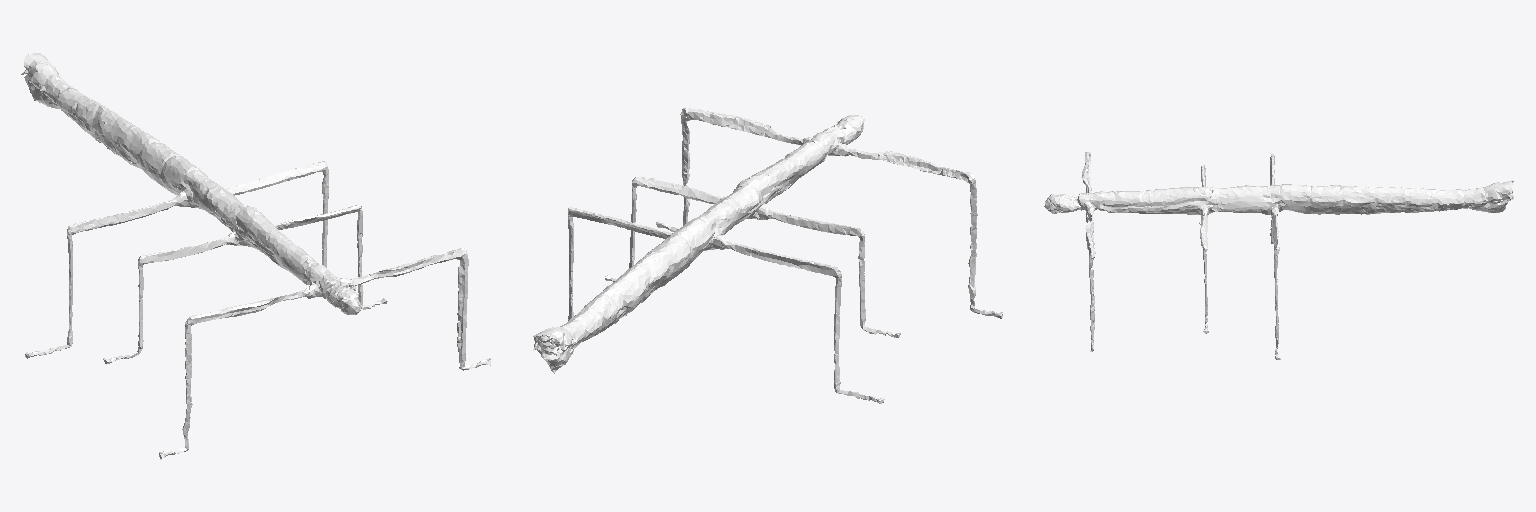
--- What the picture shows (computed from the rendered views, not written in the file) ---
The picture shows the robot from 3 angles, left to right: view 1: azimuth 30°, elevation 25°; view 2: azimuth 150°, elevation 25°; view 3: azimuth 270°, elevation 25°; orthographic projection.
Robot: Carausius_Morosus — 38 links, 37 joints (37 revolute); root link 01_Carput; default pose: all joints at 0.
Links seen in each view (by area): view 1: 03_Mesothorax, 06_Abdomen_2, 04_Metathorax, 05_Abdomen_3, 08_Abdomen_0, 07_Abdomen_1, 30_FL_Femur_L, 15_HL_Femur_R, 31_FL_Tibia_L, 35_FL_Femur_R, 10_HL_Femur_L, 25_ML_Femur_R (+4 smaller); view 2: 03_Mesothorax, 06_Abdomen_2, 05_Abdomen_3, 04_Metathorax, 08_Abdomen_0, 07_Abdomen_1, 30_FL_Femur_L, 35_FL_Femur_R, 15_HL_Femur_R, 20_ML_Femur_L, 25_ML_Femur_R, 10_HL_Femur_L (+4 smaller); view 3: 03_Mesothorax, 04_Metathorax, 06_Abdomen_2, 05_Abdomen_3, 07_Abdomen_1, 08_Abdomen_0, 01_Carput.
Link boxes in pixels (box(x1,y1,x2,y2)): 03_Mesothorax: box(228, 205, 319, 284); 06_Abdomen_2: box(97, 111, 159, 170); 04_Metathorax: box(182, 170, 243, 231); 05_Abdomen_3: box(140, 142, 200, 194); 08_Abdomen_0: box(21, 52, 72, 108); 07_Abdomen_1: box(56, 87, 110, 142); 30_FL_Femur_L: box(346, 248, 466, 286); 15_HL_Femur_R: box(67, 199, 174, 234); 31_FL_Tibia_L: box(457, 251, 468, 369); 35_FL_Femur_R: box(186, 290, 306, 325); 10_HL_Femur_L: box(226, 161, 326, 195); 25_ML_Femur_R: box(138, 238, 224, 264); 03_Mesothorax: box(734, 137, 829, 219); 06_Abdomen_2: box(605, 251, 670, 317); 05_Abdomen_3: box(648, 218, 712, 286); 04_Metathorax: box(697, 186, 759, 250); 08_Abdomen_0: box(533, 320, 585, 373); 07_Abdomen_1: box(568, 286, 623, 341); 30_FL_Femur_L: box(682, 108, 805, 144); 35_FL_Femur_R: box(848, 148, 974, 182); 15_HL_Femur_R: box(728, 241, 840, 277); 20_ML_Femur_L: box(632, 177, 722, 203); 25_ML_Femur_R: box(772, 212, 863, 236); 10_HL_Femur_L: box(568, 207, 671, 238); 03_Mesothorax: box(1104, 186, 1211, 215); 04_Metathorax: box(1212, 185, 1280, 214); 06_Abdomen_2: box(1341, 186, 1406, 214); 05_Abdomen_3: box(1280, 184, 1340, 214); 07_Abdomen_1: box(1407, 188, 1463, 212); 08_Abdomen_0: box(1464, 180, 1514, 212); 01_Carput: box(1044, 194, 1079, 213).
Size in the robot's own frame: 4.08 by 6.56 by 1.86 metres.
Meshes: 38 distinct files referenced, 38 mesh visuals loaded (38 OBJ).

The robot description file, URDF, robot "Carausius_Morosus":
<?xml version="1.0"?>
<!-- created with Phobos 1.0.1 "Capricious Choutengan" -->
  <robot name="Carausius_Morosus">

    <link name="01_Carput">
      <inertial>
        <origin xyz="0.00299 -0.20745 -0.00121" rpy="0 0 0"/>
        <mass value="17.34"/>
        <inertia ixx="0.29364" ixy="0.00491" ixz="-0.0002" iyy="0.11728" iyz="0.00443" izz="0.3038"/>
      </inertial>
      <visual name="01_Carput_Visual">
        <origin xyz="0.00299 -0.20745 -0.00121" rpy="0 0 0"/>
        <geometry>
          <mesh filename="../meshes/obj/Textured_mesh_1.obj" scale="1.0 1.0 1.0"/>
        </geometry>
        <material name="Textured_mesh_1"/>
      </visual>
      <collision name="01_Carput_Collision">
        <origin xyz="0.00144 -0.22508 -0.00708" rpy="0 0 0"/>
        <geometry>
          <mesh filename="../meshes/obj/Textured_mesh_1.075.obj" scale="1.0 1.0 1.0"/>
        </geometry>
      </collision>
    </link>

    <link name="02_Prothorax">
      <inertial>
        <origin xyz="-0.02188 0.16385 -0.00566" rpy="0 0 0"/>
        <mass value="16.52"/>
        <inertia ixx="1.58377" ixy="0.04347" ixz="0.00396" iyy="0.81574" iyz="0.07572" izz="1.50066"/>
      </inertial>
      <visual name="02_Prothorax_Visual">
        <origin xyz="-0.02188 0.16385 -0.00566" rpy="1.5708 -1.55593 -1.55593"/>
        <geometry>
          <mesh filename="../meshes/obj/Textured_mesh_1.002.obj" scale="1.0 1.0 1.0"/>
        </geometry>
        <material name="Textured_mesh_1"/>
      </visual>
      <collision name="02_Prothorax_Collision">
        <origin xyz="-0.03485 0.16313 -0.00501" rpy="1.5708 -1.55593 -1.55593"/>
        <geometry>
          <mesh filename="../meshes/obj/Textured_mesh_1.038.obj" scale="1.0 1.0 1.0"/>
        </geometry>
      </collision>
    </link>

    <link name="03_Mesothorax">
      <inertial>
        <origin xyz="-0.0093 0.89929 0.0142" rpy="0 0 0"/>
        <mass value="106.97"/>
        <inertia ixx="20.60371" ixy="0.78315" ixz="-0.05197" iyy="1.47493" iyz="0.10068" izz="20.30968"/>
      </inertial>
      <visual name="03_Mesothorax_Visual">
        <origin xyz="-0.0093 0.89929 0.0142" rpy="1.5708 -1.55593 -1.55593"/>
        <geometry>
          <mesh filename="../meshes/obj/Textured_mesh_1.015.obj" scale="1.0 1.0 1.0"/>
        </geometry>
        <material name="Textured_mesh_1"/>
      </visual>
      <collision name="03_Mesothorax_Collision">
        <origin xyz="-0.01824 0.87338 0.01072" rpy="1.5708 -1.55593 -1.55593"/>
        <geometry>
          <mesh filename="../meshes/obj/Textured_mesh_1.064.obj" scale="1.0 1.0 1.0"/>
        </geometry>
      </collision>
    </link>

    <link name="04_Metathorax">
      <inertial>
        <origin xyz="0.00793 0.52285 -0.01246" rpy="0 0 0"/>
        <mass value="81.29"/>
        <inertia ixx="6.45446" ixy="0.10327" ixz="0.13269" iyy="1.283" iyz="-0.12884" izz="6.417"/>
      </inertial>
      <visual name="04_Metathorax_Visual">
        <origin xyz="0.00793 0.52285 -0.01246" rpy="1.5708 -1.55593 -1.55593"/>
        <geometry>
          <mesh filename="../meshes/obj/Textured_mesh_1.025.obj" scale="1.0 1.0 1.0"/>
        </geometry>
        <material name="Textured_mesh_1"/>
      </visual>
      <collision name="04_Metathorax_Collision">
        <origin xyz="0.00539 0.50517 -0.00101" rpy="1.5708 -1.55593 -1.55593"/>
        <geometry>
          <mesh filename="../meshes/obj/Textured_mesh_1.063.obj" scale="1.0 1.0 1.0"/>
        </geometry>
      </collision>
    </link>

    <link name="05_Abdomen_3">
      <inertial>
        <origin xyz="0.02684 0.42317 0.00598" rpy="0 0 0"/>
        <mass value="80.68"/>
        <inertia ixx="4.67129" ixy="0.1158" ixz="0.01225" iyy="1.42033" iyz="-0.19931" izz="4.35911"/>
      </inertial>
      <visual name="05_Abdomen_3_Visual">
        <origin xyz="0.02684 0.42317 0.00598" rpy="1.5708 -1.55593 -1.55593"/>
        <geometry>
          <mesh filename="../meshes/obj/Textured_mesh_1.024.obj" scale="1.0 1.0 1.0"/>
        </geometry>
        <material name="Textured_mesh_1"/>
      </visual>
      <collision name="05_Abdomen_3_Collision">
        <origin xyz="0.0458 0.42051 0.01016" rpy="1.5708 -1.55593 -1.55593"/>
        <geometry>
          <mesh filename="../meshes/obj/Textured_mesh_1.062.obj" scale="1.0 1.0 1.0"/>
        </geometry>
      </collision>
    </link>

    <link name="06_Abdomen_2">
      <inertial>
        <origin xyz="0.0132 0.462 0.00721" rpy="0 0 0"/>
        <mass value="79.52"/>
        <inertia ixx="5.64524" ixy="0.19915" ixz="0.18241" iyy="1.29091" iyz="-0.17084" izz="5.30662"/>
      </inertial>
      <visual name="06_Abdomen_2_Visual">
        <origin xyz="0.0132 0.462 0.00721" rpy="1.5708 -1.55593 -1.55593"/>
        <geometry>
          <mesh filename="../meshes/obj/Textured_mesh_1.035.obj" scale="1.0 1.0 1.0"/>
        </geometry>
        <material name="Textured_mesh_1"/>
      </visual>
      <collision name="06_Abdomen_2_Collision">
        <origin xyz="0.00333 0.46033 0.01352" rpy="1.5708 -1.55593 -1.55593"/>
        <geometry>
          <mesh filename="../meshes/obj/Textured_mesh_1.061.obj" scale="1.0 1.0 1.0"/>
        </geometry>
      </collision>
    </link>

    <link name="07_Abdomen_1">
      <inertial>
        <origin xyz="-0.00193 0.38309 -0.01013" rpy="0 0 0"/>
        <mass value="54.07"/>
        <inertia ixx="2.73094" ixy="0.10817" ixz="0.0819" iyy="0.67247" iyz="-0.00785" izz="2.6494"/>
      </inertial>
      <visual name="07_Abdomen_1_Visual">
        <origin xyz="-0.00193 0.38309 -0.01013" rpy="1.5708 -1.55593 -1.55593"/>
        <geometry>
          <mesh filename="../meshes/obj/Textured_mesh_1.036.obj" scale="1.0 1.0 1.0"/>
        </geometry>
        <material name="Textured_mesh_1"/>
      </visual>
      <collision name="07_Abdomen_1_Collision">
        <origin xyz="-0.00809 0.39863 -0.00674" rpy="1.5708 -1.55593 -1.55593"/>
        <geometry>
          <mesh filename="../meshes/obj/Textured_mesh_1.060.obj" scale="1.0 1.0 1.0"/>
        </geometry>
      </collision>
    </link>

    <link name="08_Abdomen_0">
      <inertial>
        <origin xyz="-0.04794 0.40528 -0.01267" rpy="0 0 0"/>
        <mass value="46.23"/>
        <inertia ixx="2.05257" ixy="0.07623" ixz="0.06869" iyy="0.6677" iyz="0.25277" izz="1.78699"/>
      </inertial>
      <visual name="08_Abdomen_0_Visual">
        <origin xyz="-0.04794 0.40528 -0.01267" rpy="1.5708 -1.55593 -1.55593"/>
        <geometry>
          <mesh filename="../meshes/obj/Textured_mesh_1.037.obj" scale="1.0 1.0 1.0"/>
        </geometry>
        <material name="Textured_mesh_1"/>
      </visual>
      <collision name="08_Abdomen_0_Collision">
        <origin xyz="-0.02635 0.35668 -0.00925" rpy="1.5708 -1.55593 -1.55593"/>
        <geometry>
          <mesh filename="../meshes/obj/Textured_mesh_1.059.obj" scale="1.0 1.0 1.0"/>
        </geometry>
      </collision>
    </link>

    <link name="09_HL_CT_L">
      <inertial>
        <origin xyz="0.05059 0.00572 0.0055" rpy="0 0 0"/>
        <mass value="1.05"/>
        <inertia ixx="0.00199" ixy="5e-05" ixz="-9e-05" iyy="0.00209" iyz="-0.00015" izz="0.00156"/>
      </inertial>
      <visual name="09_HL_CT_L_Visual">
        <origin xyz="0.05059 0.00572 0.0055" rpy="0 0 0"/>
        <geometry>
          <mesh filename="../meshes/obj/Textured_mesh_1.013.obj" scale="1.0 1.0 1.0"/>
        </geometry>
        <material name="Textured_mesh_1"/>
      </visual>
      <collision name="09_HL_CT_L_Collision">
        <origin xyz="0.05571 0.00357 0.00927" rpy="0 0 0"/>
        <geometry>
          <mesh filename="../meshes/obj/Textured_mesh_1.053.obj" scale="1.0 1.0 1.0"/>
        </geometry>
      </collision>
    </link>

    <link name="10_HL_Femur_L">
      <inertial>
        <origin xyz="0.67236 0.01674 -0.00219" rpy="0 0 0"/>
        <mass value="4.5"/>
        <inertia ixx="0.00507" ixy="-0.01599" ixz="0.01795" iyy="0.61904" iyz="-0.00051" izz="0.6183"/>
      </inertial>
      <visual name="10_HL_Femur_L_Visual">
        <origin xyz="0.67236 0.01674 -0.00219" rpy="-1.5708 -0.01487 0.01487"/>
        <geometry>
          <mesh filename="../meshes/obj/Textured_mesh_1.027.obj" scale="1.0 1.0 1.0"/>
        </geometry>
        <material name="Textured_mesh_1"/>
      </visual>
      <collision name="10_HL_Femur_L_Collision">
        <origin xyz="0.62608 0.0165 -0.00451" rpy="-1.5708 -0.01487 0.01487"/>
        <geometry>
          <mesh filename="../meshes/obj/Textured_mesh_1.049.obj" scale="1.0 1.0 1.0"/>
        </geometry>
      </collision>
    </link>

    <link name="11_HL_Tibia_L">
      <inertial>
        <origin xyz="0.01228 -0.67668 0.00057" rpy="0 0 0"/>
        <mass value="2.28"/>
        <inertia ixx="0.46179" ixy="0.0008" ixz="-0.00026" iyy="0.46199" iyz="0.00424" izz="0.00093"/>
      </inertial>
      <visual name="11_HL_Tibia_L_Visual">
        <origin xyz="0.01228 -0.67669 0.00057" rpy="-1.5708 -0.01487 0.01487"/>
        <geometry>
          <mesh filename="../meshes/obj/Textured_mesh_1.029.obj" scale="1.0 1.0 1.0"/>
        </geometry>
        <material name="Textured_mesh_1"/>
      </visual>
      <collision name="11_HL_Tibia_L_Collision">
        <origin xyz="0.01463 -0.72451 -0.00246" rpy="-1.5708 -0.01487 0.01487"/>
        <geometry>
          <mesh filename="../meshes/obj/Textured_mesh_1.050.obj" scale="1.0 1.0 1.0"/>
        </geometry>
      </collision>
    </link>

    <link name="12_HL_Tarsus_L">
      <inertial>
        <origin xyz="0.08915 -0.00613 0.00065" rpy="0 0 0"/>
        <mass value="0.23"/>
        <inertia ixx="7e-05" ixy="-3e-05" ixz="0" iyy="0.00052" iyz="-1e-05" izz="0.0005"/>
      </inertial>
      <visual name="12_HL_Tarsus_L_Visual">
        <origin xyz="0.08915 -0.00613 0.00065" rpy="-1.5708 -0.01487 0.01487"/>
        <geometry>
          <mesh filename="../meshes/obj/Textured_mesh_1.028.obj" scale="1.0 1.0 1.0"/>
        </geometry>
        <material name="Textured_mesh_1"/>
      </visual>
      <collision name="12_HL_Tarsus_L_Collision">
        <origin xyz="0.08204 -0.00932 0.00517" rpy="-1.5708 -0.01487 0.01487"/>
        <geometry>
          <mesh filename="../meshes/obj/Textured_mesh_1.051.obj" scale="1.0 1.0 1.0"/>
        </geometry>
      </collision>
    </link>

    <link name="13_HL_Pretarsus_L">
      <inertial>
        <origin xyz="0.08252 0.00663 -0.00613" rpy="0 0 0"/>
        <mass value="0.3"/>
        <inertia ixx="0.00013" ixy="1e-05" ixz="2e-05" iyy="0.00097" iyz="2e-05" izz="0.00099"/>
      </inertial>
      <visual name="13_HL_Pretarsus_L_Visual">
        <origin xyz="0.08252 0.00663 -0.00613" rpy="-1.5708 -0.01487 0.01487"/>
        <geometry>
          <mesh filename="../meshes/obj/Textured_mesh_1.030.obj" scale="1.0 1.0 1.0"/>
        </geometry>
        <material name="Textured_mesh_1"/>
      </visual>
      <collision name="13_HL_Pretarsus_L_Collision">
        <origin xyz="0.09089 0.01534 -0.01421" rpy="-1.5708 -0.01487 0.01487"/>
        <geometry>
          <mesh filename="../meshes/obj/Textured_mesh_1.052.obj" scale="1.0 1.0 1.0"/>
        </geometry>
      </collision>
    </link>

    <link name="14_HL_CT_R">
      <inertial>
        <origin xyz="-0.0598 -0.00109 -0.00204" rpy="0 0 0"/>
        <mass value="1.38"/>
        <inertia ixx="0.00288" ixy="-0.00026" ixz="6e-05" iyy="0.00362" iyz="3e-05" izz="0.00255"/>
      </inertial>
      <visual name="14_HL_CT_R_Visual">
        <origin xyz="-0.0598 -0.00109 -0.00204" rpy="0 0 0"/>
        <geometry>
          <mesh filename="../meshes/obj/Textured_mesh_1.026.obj" scale="1.0 1.0 1.0"/>
        </geometry>
        <material name="Textured_mesh_1"/>
      </visual>
      <collision name="14_HL_CT_R_Collision">
        <origin xyz="-0.06929 -0.01053 0.00277" rpy="0 0 0"/>
        <geometry>
          <mesh filename="../meshes/obj/Textured_mesh_1.058.obj" scale="1.0 1.0 1.0"/>
        </geometry>
      </collision>
    </link>

    <link name="15_HL_Femur_R">
      <inertial>
        <origin xyz="-0.67541 -0.02913 0.00261" rpy="0 0 0"/>
        <mass value="4.58"/>
        <inertia ixx="0.00534" ixy="-0.02581" ixz="0.00749" iyy="0.65793" iyz="0.00014" izz="0.6566"/>
      </inertial>
      <visual name="15_HL_Femur_R_Visual">
        <origin xyz="-0.67541 -0.02913 0.00261" rpy="-1.5708 -0.01487 0.01487"/>
        <geometry>
          <mesh filename="../meshes/obj/Textured_mesh_1.031.obj" scale="1.0 1.0 1.0"/>
        </geometry>
        <material name="Textured_mesh_1"/>
      </visual>
      <collision name="15_HL_Femur_R_Collision">
        <origin xyz="-0.63769 -0.02852 0.00328" rpy="-1.5708 -0.01487 0.01487"/>
        <geometry>
          <mesh filename="../meshes/obj/Textured_mesh_1.054.obj" scale="1.0 1.0 1.0"/>
        </geometry>
      </collision>
    </link>

    <link name="16_HL_Tibia_R">
      <inertial>
        <origin xyz="0.01601 -0.59383 -0.00361" rpy="0 0 0"/>
        <mass value="1.99"/>
        <inertia ixx="0.30642" ixy="-0.00353" ixz="-5e-05" iyy="0.3058" iyz="0.00366" izz="0.00083"/>
      </inertial>
      <visual name="16_HL_Tibia_R_Visual">
        <origin xyz="0.01601 -0.59383 -0.00361" rpy="-1.5708 -0.01487 0.01487"/>
        <geometry>
          <mesh filename="../meshes/obj/Textured_mesh_1.033.obj" scale="1.0 1.0 1.0"/>
        </geometry>
        <material name="Textured_mesh_1"/>
      </visual>
      <collision name="16_HL_Tibia_R_Collision">
        <origin xyz="0.01133 -0.63228 -0.00535" rpy="-1.5708 -0.01487 0.01487"/>
        <geometry>
          <mesh filename="../meshes/obj/Textured_mesh_1.055.obj" scale="1.0 1.0 1.0"/>
        </geometry>
      </collision>
    </link>

    <link name="17_HL_Tarsus_R">
      <inertial>
        <origin xyz="-0.13775 -0.00868 0.00454" rpy="0 0 0"/>
        <mass value="0.33"/>
        <inertia ixx="0.0001" ixy="-0.00011" ixz="0.00013" iyy="0.00189" iyz="1e-05" izz="0.00189"/>
      </inertial>
      <visual name="17_HL_Tarsus_R_Visual">
        <origin xyz="-0.13775 -0.00868 0.00454" rpy="-1.5708 -0.01487 0.01487"/>
        <geometry>
          <mesh filename="../meshes/obj/Textured_mesh_1.032.obj" scale="1.0 1.0 1.0"/>
        </geometry>
        <material name="Textured_mesh_1"/>
      </visual>
      <collision name="17_HL_Tarsus_R_Collision">
        <origin xyz="-0.1195 -0.0037 0.00457" rpy="-1.5708 -0.01487 0.01487"/>
        <geometry>
          <mesh filename="../meshes/obj/Textured_mesh_1.056.obj" scale="1.0 1.0 1.0"/>
        </geometry>
      </collision>
    </link>

    <link name="18_HL_Pretarsus_R">
      <inertial>
        <origin xyz="-0.11251 0.0067 -0.00946" rpy="0 0 0"/>
        <mass value="0.39"/>
        <inertia ixx="0.00019" ixy="-0.00026" ixz="-0.00013" iyy="0.00233" iyz="0" izz="0.00239"/>
      </inertial>
      <visual name="18_HL_Pretarsus_R_Visual">
        <origin xyz="-0.11251 0.0067 -0.00946" rpy="-1.5708 -0.01487 0.01487"/>
        <geometry>
          <mesh filename="../meshes/obj/Textured_mesh_1.034.obj" scale="1.0 1.0 1.0"/>
        </geometry>
        <material name="Textured_mesh_1"/>
      </visual>
      <collision name="18_HL_Pretarsus_R_Collision">
        <origin xyz="-0.12247 0.00686 -0.01808" rpy="-1.5708 -0.01487 0.01487"/>
        <geometry>
          <mesh filename="../meshes/obj/Textured_mesh_1.057.obj" scale="1.0 1.0 1.0"/>
        </geometry>
      </collision>
    </link>

    <link name="19_ML_CT_L">
      <inertial>
        <origin xyz="0.05976 0.00355 -0.00473" rpy="0 0 0"/>
        <mass value="0.88"/>
        <inertia ixx="0.00129" ixy="1e-05" ixz="5e-05" iyy="0.00177" iyz="0.0001" izz="0.00155"/>
      </inertial>
      <visual name="19_ML_CT_L_Visual">
        <origin xyz="0.05976 0.00355 -0.00473" rpy="0 0 0"/>
        <geometry>
          <mesh filename="../meshes/obj/Textured_mesh_1.007.obj" scale="1.0 1.0 1.0"/>
        </geometry>
        <material name="Textured_mesh_1"/>
      </visual>
      <collision name="19_ML_CT_L_Collision">
        <origin xyz="0.06138 -0.00159 -0.00601" rpy="0 0 0"/>
        <geometry>
          <mesh filename="../meshes/obj/Textured_mesh_1.048.obj" scale="1.0 1.0 1.0"/>
        </geometry>
      </collision>
    </link>

    <link name="20_ML_Femur_L">
      <inertial>
        <origin xyz="0.5259 -0.00662 0.01525" rpy="0 0 0"/>
        <mass value="4.57"/>
        <inertia ixx="0.00454" ixy="-0.01513" ixz="-0.00475" iyy="0.31232" iyz="0.00068" izz="0.31323"/>
      </inertial>
      <visual name="20_ML_Femur_L_Visual">
        <origin xyz="0.5259 -0.00662 0.01525" rpy="-1.5708 -0.01487 0.01487"/>
        <geometry>
          <mesh filename="../meshes/obj/Textured_mesh_1.021.obj" scale="1.0 1.0 1.0"/>
        </geometry>
        <material name="Textured_mesh_1"/>
      </visual>
      <collision name="20_ML_Femur_L_Collision">
        <origin xyz="0.52321 -0.00657 0.01803" rpy="-1.5708 -0.01487 0.01487"/>
        <geometry>
          <mesh filename="../meshes/obj/Textured_mesh_1.044.obj" scale="1.0 1.0 1.0"/>
        </geometry>
      </collision>
    </link>

    <link name="21_ML_Tibia_L">
      <inertial>
        <origin xyz="0.02083 -0.56726 -0.00875" rpy="0 0 0"/>
        <mass value="1.44"/>
        <inertia ixx="0.17819" ixy="-0.00339" ixz="-0.00011" iyy="0.17767" iyz="0.00263" izz="0.00052"/>
      </inertial>
      <visual name="21_ML_Tibia_L_Visual">
        <origin xyz="0.02083 -0.56726 -0.00875" rpy="-1.5708 -0.01487 0.01487"/>
        <geometry>
          <mesh filename="../meshes/obj/Textured_mesh_1.022.obj" scale="1.0 1.0 1.0"/>
        </geometry>
        <material name="Textured_mesh_1"/>
      </visual>
      <collision name="21_ML_Tibia_L_Collision">
        <origin xyz="0.01768 -0.5586 -0.00809" rpy="-1.5708 -0.01487 0.01487"/>
        <geometry>
          <mesh filename="../meshes/obj/Textured_mesh_1.045.obj" scale="1.0 1.0 1.0"/>
        </geometry>
      </collision>
    </link>

    <link name="22_ML_Tarsus_L">
      <inertial>
        <origin xyz="0.07939 -0.00547 -0.00223" rpy="0 0 0"/>
        <mass value="0.15"/>
        <inertia ixx="5e-05" ixy="-1e-05" ixz="0" iyy="0.00043" iyz="0" izz="0.00042"/>
      </inertial>
      <visual name="22_ML_Tarsus_L_Visual">
        <origin xyz="0.07939 -0.00547 -0.00223" rpy="-1.5708 -0.01487 0.01487"/>
        <geometry>
          <mesh filename="../meshes/obj/Textured_mesh_1.023.obj" scale="1.0 1.0 1.0"/>
        </geometry>
        <material name="Textured_mesh_1"/>
      </visual>
      <collision name="22_ML_Tarsus_L_Collision">
        <origin xyz="0.07474 -0.01048 -0.00454" rpy="-1.5708 -0.01487 0.01487"/>
        <geometry>
          <mesh filename="../meshes/obj/Textured_mesh_1.046.obj" scale="1.0 1.0 1.0"/>
        </geometry>
      </collision>
    </link>

    <link name="23_ML_Pretarsus_L">
      <inertial>
        <origin xyz="0.05906 0.00292 0.00266" rpy="0 0 0"/>
        <mass value="0.18"/>
        <inertia ixx="9e-05" ixy="0" ixz="2e-05" iyy="0.00052" iyz="0" izz="0.00055"/>
      </inertial>
      <visual name="23_ML_Pretarsus_L_Visual">
        <origin xyz="0.05906 0.00292 0.00266" rpy="-1.5708 -0.01487 0.01487"/>
        <geometry>
          <mesh filename="../meshes/obj/Textured_mesh_1.020.obj" scale="1.0 1.0 1.0"/>
        </geometry>
        <material name="Textured_mesh_1"/>
      </visual>
      <collision name="23_ML_Pretarsus_L_Collision">
        <origin xyz="0.06823 0.00318 -0.00152" rpy="-1.5708 -0.01487 0.01487"/>
        <geometry>
          <mesh filename="../meshes/obj/Textured_mesh_1.047.obj" scale="1.0 1.0 1.0"/>
        </geometry>
      </collision>
    </link>

    <link name="24_ML_CT_R">
      <inertial>
        <origin xyz="-0.05312 -0.00115 -0.00042" rpy="0 0 0"/>
        <mass value="0.84"/>
        <inertia ixx="0.00149" ixy="2e-05" ixz="-1e-05" iyy="0.00185" iyz="-2e-05" izz="0.00147"/>
      </inertial>
      <visual name="24_ML_CT_R_Visual">
        <origin xyz="-0.05312 -0.00115 -0.00042" rpy="0 0 0"/>
        <geometry>
          <mesh filename="../meshes/obj/Textured_mesh_1.014.obj" scale="1.0 1.0 1.0"/>
        </geometry>
        <material name="Textured_mesh_1"/>
      </visual>
      <collision name="24_ML_CT_R_Collision">
        <origin xyz="-0.05985 -0.00207 -0.00148" rpy="0 0 0"/>
        <geometry>
          <mesh filename="../meshes/obj/Textured_mesh_1.043.obj" scale="1.0 1.0 1.0"/>
        </geometry>
      </collision>
    </link>

    <link name="25_ML_Femur_R">
      <inertial>
        <origin xyz="-0.5338 -0.00281 0.00804" rpy="0 0 0"/>
        <mass value="3.83"/>
        <inertia ixx="0.00685" ixy="-0.02995" ixz="0.00967" iyy="0.36425" iyz="0.00089" izz="0.36355"/>
      </inertial>
      <visual name="25_ML_Femur_R_Visual">
        <origin xyz="-0.5338 -0.00281 0.00804" rpy="-1.5708 -0.01487 0.01487"/>
        <geometry>
          <mesh filename="../meshes/obj/Textured_mesh_1.016.obj" scale="1.0 1.0 1.0"/>
        </geometry>
        <material name="Textured_mesh_1"/>
      </visual>
      <collision name="25_ML_Femur_R_Collision">
        <origin xyz="-0.51651 -0.00177 0.00798" rpy="-1.5708 -0.01487 0.01487"/>
        <geometry>
          <mesh filename="../meshes/obj/Textured_mesh_1.039.obj" scale="1.0 1.0 1.0"/>
        </geometry>
      </collision>
    </link>

    <link name="26_ML_Tibia_R">
      <inertial>
        <origin xyz="0.00146 -0.49641 0.00221" rpy="0 0 0"/>
        <mass value="1.49"/>
        <inertia ixx="0.21772" ixy="0.00142" ixz="0.00021" iyy="0.21806" iyz="-0.00267" izz="0.00077"/>
      </inertial>
      <visual name="26_ML_Tibia_R_Visual">
        <origin xyz="0.00146 -0.49641 0.00221" rpy="-1.5708 -0.01487 0.01487"/>
        <geometry>
          <mesh filename="../meshes/obj/Textured_mesh_1.018.obj" scale="1.0 1.0 1.0"/>
        </geometry>
        <material name="Textured_mesh_1"/>
      </visual>
      <collision name="26_ML_Tibia_R_Collision">
        <origin xyz="0.00471 -0.49962 0.00156" rpy="-1.5708 -0.01487 0.01487"/>
        <geometry>
          <mesh filename="../meshes/obj/Textured_mesh_1.040.obj" scale="1.0 1.0 1.0"/>
        </geometry>
      </collision>
    </link>

    <link name="27_ML_Tarsus_R">
      <inertial>
        <origin xyz="-0.10979 -0.00875 -0.00688" rpy="0 0 0"/>
        <mass value="0.23"/>
        <inertia ixx="7e-05" ixy="-5e-05" ixz="2e-05" iyy="0.00073" iyz="1e-05" izz="0.00071"/>
      </inertial>
      <visual name="27_ML_Tarsus_R_Visual">
        <origin xyz="-0.10979 -0.00875 -0.00688" rpy="-1.5708 -0.01487 0.01487"/>
        <geometry>
          <mesh filename="../meshes/obj/Textured_mesh_1.017.obj" scale="1.0 1.0 1.0"/>
        </geometry>
        <material name="Textured_mesh_1"/>
      </visual>
      <collision name="27_ML_Tarsus_R_Collision">
        <origin xyz="-0.098 -0.01101 -0.01412" rpy="-1.5708 -0.01487 0.01487"/>
        <geometry>
          <mesh filename="../meshes/obj/Textured_mesh_1.041.obj" scale="1.0 1.0 1.0"/>
        </geometry>
      </collision>
    </link>

    <link name="28_ML_Pretarsus_R">
      <inertial>
        <origin xyz="-0.08426 -0.00367 0.00286" rpy="0 0 0"/>
        <mass value="0.26"/>
        <inertia ixx="0.0001" ixy="-4e-05" ixz="9e-05" iyy="0.0012" iyz="0" izz="0.00124"/>
      </inertial>
      <visual name="28_ML_Pretarsus_R_Visual">
        <origin xyz="-0.08426 -0.00367 0.00286" rpy="-1.5708 -0.01487 0.01487"/>
        <geometry>
          <mesh filename="../meshes/obj/Textured_mesh_1.019.obj" scale="1.0 1.0 1.0"/>
        </geometry>
        <material name="Textured_mesh_1"/>
      </visual>
      <collision name="28_ML_Pretarsus_R_Collision">
        <origin xyz="-0.10475 -0.00246 0.015" rpy="-1.5708 -0.01487 0.01487"/>
        <geometry>
          <mesh filename="../meshes/obj/Textured_mesh_1.042.obj" scale="1.0 1.0 1.0"/>
        </geometry>
      </collision>
    </link>

    <link name="29_FL_CT_L">
      <inertial>
        <origin xyz="0.05825 0.00669 -0.01075" rpy="0 0 0"/>
        <mass value="1.28"/>
        <inertia ixx="0.00275" ixy="0.00021" ixz="-2e-05" iyy="0.00299" iyz="0.00011" izz="0.00269"/>
      </inertial>
      <visual name="29_FL_CT_L_Visual">
        <origin xyz="0.05825 0.00669 -0.01075" rpy="0 0 0"/>
        <geometry>
          <mesh filename="../meshes/obj/Textured_mesh_1.001.obj" scale="1.0 1.0 1.0"/>
        </geometry>
        <material name="Textured_mesh_1"/>
      </visual>
      <collision name="29_FL_CT_L_Collision">
        <origin xyz="0.06109 0.00667 0.00327" rpy="0 0 0"/>
        <geometry>
          <mesh filename="../meshes/obj/Textured_mesh_1.069.obj" scale="1.0 1.0 1.0"/>
        </geometry>
      </collision>
    </link>

    <link name="30_FL_Femur_L">
      <inertial>
        <origin xyz="0.74981 0.02106 0.00263" rpy="0 0 0"/>
        <mass value="6.69"/>
        <inertia ixx="0.00915" ixy="-0.01685" ixz="0.01428" iyy="0.88191" iyz="0.00132" izz="0.88143"/>
      </inertial>
      <visual name="30_FL_Femur_L_Visual">
        <origin xyz="0.74981 0.02106 0.00263" rpy="-1.5708 -0.01487 0.01487"/>
        <geometry>
          <mesh filename="../meshes/obj/Textured_mesh_1.004.obj" scale="1.0 1.0 1.0"/>
        </geometry>
        <material name="Textured_mesh_1"/>
      </visual>
      <collision name="30_FL_Femur_L_Collision">
        <origin xyz="0.71889 0.02037 0.00664" rpy="-1.5708 -0.01487 0.01487"/>
        <geometry>
          <mesh filename="../meshes/obj/Textured_mesh_1.068.obj" scale="1.0 1.0 1.0"/>
        </geometry>
      </collision>
    </link>

    <link name="31_FL_Tibia_L">
      <inertial>
        <origin xyz="0.00926 -0.63695 0.00189" rpy="0 0 0"/>
        <mass value="2.09"/>
        <inertia ixx="0.29766" ixy="0.00362" ixz="-0.0004" iyy="0.29885" iyz="0.00261" izz="0.0015"/>
      </inertial>
      <visual name="31_FL_Tibia_L_Visual">
        <origin xyz="0.00926 -0.63695 0.00189" rpy="-1.5708 -0.01487 0.01487"/>
        <geometry>
          <mesh filename="../meshes/obj/Textured_mesh_1.005.obj" scale="1.0 1.0 1.0"/>
        </geometry>
        <material name="Textured_mesh_1"/>
      </visual>
      <collision name="31_FL_Tibia_L_Collision">
        <origin xyz="0.01075 -0.63378 0.00093" rpy="-1.5708 -0.01487 0.01487"/>
        <geometry>
          <mesh filename="../meshes/obj/Textured_mesh_1.065.obj" scale="1.0 1.0 1.0"/>
        </geometry>
      </collision>
    </link>

    <link name="32_FL_Tarsus_L">
      <inertial>
        <origin xyz="0.07146 -0.00243 -0.00319" rpy="0 0 0"/>
        <mass value="0.18"/>
        <inertia ixx="4e-05" ixy="-2e-05" ixz="0" iyy="0.00031" iyz="0" izz="0.00031"/>
      </inertial>
      <visual name="32_FL_Tarsus_L_Visual">
        <origin xyz="0.07146 -0.00243 -0.00319" rpy="-1.5708 -0.01487 0.01487"/>
        <geometry>
          <mesh filename="../meshes/obj/Textured_mesh_1.003.obj" scale="1.0 1.0 1.0"/>
        </geometry>
        <material name="Textured_mesh_1"/>
      </visual>
      <collision name="32_FL_Tarsus_L_Collision">
        <origin xyz="0.07222 -0.0047 -0.00169" rpy="-1.5708 -0.01487 0.01487"/>
        <geometry>
          <mesh filename="../meshes/obj/Textured_mesh_1.066.obj" scale="1.0 1.0 1.0"/>
        </geometry>
      </collision>
    </link>

    <link name="33_FL_Pretarsus_L">
      <inertial>
        <origin xyz="0.07423 0.01283 0.00647" rpy="0 0 0"/>
        <mass value="0.27"/>
        <inertia ixx="0.0001" ixy="3e-05" ixz="0" iyy="0.00082" iyz="-1e-05" izz="0.00078"/>
      </inertial>
      <visual name="33_FL_Pretarsus_L_Visual">
        <origin xyz="0.07423 0.01283 0.00647" rpy="-1.5708 -0.01487 0.01487"/>
        <geometry>
          <mesh filename="../meshes/obj/Textured_mesh_1.006.obj" scale="1.0 1.0 1.0"/>
        </geometry>
        <material name="Textured_mesh_1"/>
      </visual>
      <collision name="33_FL_Pretarsus_L_Collision">
        <origin xyz="0.0875 0.02052 0.01066" rpy="-1.5708 -0.01487 0.01487"/>
        <geometry>
          <mesh filename="../meshes/obj/Textured_mesh_1.067.obj" scale="1.0 1.0 1.0"/>
        </geometry>
      </collision>
    </link>

    <link name="34_FL_CT_R">
      <inertial>
        <origin xyz="-0.04796 -0.00236 -0.00015" rpy="0 0 0"/>
        <mass value="0.88"/>
        <inertia ixx="0.00142" ixy="-3e-05" ixz="-7e-05" iyy="0.0015" iyz="-8e-05" izz="0.00123"/>
      </inertial>
      <visual name="34_FL_CT_R_Visual">
        <origin xyz="-0.04796 -0.00236 -0.00015" rpy="0 0 0"/>
        <geometry>
          <mesh filename="../meshes/obj/Textured_mesh_1.008.obj" scale="1.0 1.0 1.0"/>
        </geometry>
        <material name="Textured_mesh_1"/>
      </visual>
      <collision name="34_FL_CT_R_Collision">
        <origin xyz="-0.05327 0.00237 -0.00253" rpy="0 0 0"/>
        <geometry>
          <mesh filename="../meshes/obj/Textured_mesh_1.074.obj" scale="1.0 1.0 1.0"/>
        </geometry>
      </collision>
    </link>

    <link name="35_FL_Femur_R">
      <inertial>
        <origin xyz="-0.70545 -0.00442 0.02193" rpy="0 0 0"/>
        <mass value="6.2"/>
        <inertia ixx="0.01112" ixy="-0.054" ixz="0.01646" iyy="0.88078" iyz="0.00171" izz="0.88484"/>
      </inertial>
      <visual name="35_FL_Femur_R_Visual">
        <origin xyz="-0.70545 -0.00442 0.02193" rpy="-1.5708 -0.01487 0.01487"/>
        <geometry>
          <mesh filename="../meshes/obj/Textured_mesh_1.010.obj" scale="1.0 1.0 1.0"/>
        </geometry>
        <material name="Textured_mesh_1"/>
      </visual>
      <collision name="35_FL_Femur_R_Collision">
        <origin xyz="-0.71365 -0.00396 0.0329" rpy="-1.5708 -0.01487 0.01487"/>
        <geometry>
          <mesh filename="../meshes/obj/Textured_mesh_1.073.obj" scale="1.0 1.0 1.0"/>
        </geometry>
      </collision>
    </link>

    <link name="36_FL_Tibia_R">
      <inertial>
        <origin xyz="-0.0006 -0.67299 0.00244" rpy="0 0 0"/>
        <mass value="2.64"/>
        <inertia ixx="0.46305" ixy="0.00282" ixz="-0.00045" iyy="0.46342" iyz="0.00939" izz="0.00157"/>
      </inertial>
      <visual name="36_FL_Tibia_R_Visual">
        <origin xyz="-0.0006 -0.67299 0.00244" rpy="-1.5708 -0.01487 0.01487"/>
        <geometry>
          <mesh filename="../meshes/obj/Textured_mesh_1.011.obj" scale="1.0 1.0 1.0"/>
        </geometry>
        <material name="Textured_mesh_1"/>
      </visual>
      <collision name="36_FL_Tibia_R_Collision">
        <origin xyz="0.00254 -0.69922 -0.00368" rpy="-1.5708 -0.01487 0.01487"/>
        <geometry>
          <mesh filename="../meshes/obj/Textured_mesh_1.070.obj" scale="1.0 1.0 1.0"/>
        </geometry>
      </collision>
    </link>

    <link name="37_FL_Tarsus_R">
      <inertial>
        <origin xyz="-0.08245 -0.01025 0.00014" rpy="0 0 0"/>
        <mass value="0.17"/>
        <inertia ixx="3e-05" ixy="-1e-05" ixz="2e-05" iyy="0.00038" iyz="0" izz="0.00038"/>
      </inertial>
      <visual name="37_FL_Tarsus_R_Visual">
        <origin xyz="-0.08245 -0.01025 0.00014" rpy="-1.5708 -0.01487 0.01487"/>
        <geometry>
          <mesh filename="../meshes/obj/Textured_mesh_1.009.obj" scale="1.0 1.0 1.0"/>
        </geometry>
        <material name="Textured_mesh_1"/>
      </visual>
      <collision name="37_FL_Tarsus_R_Collision">
        <origin xyz="-0.07257 -0.0103 0.00297" rpy="-1.5708 -0.01487 0.01487"/>
        <geometry>
          <mesh filename="../meshes/obj/Textured_mesh_1.071.obj" scale="1.0 1.0 1.0"/>
        </geometry>
      </collision>
    </link>

    <link name="38_FL_Pretarsus_R">
      <inertial>
        <origin xyz="-0.07406 0.01029 0.00618" rpy="0 0 0"/>
        <mass value="0.27"/>
        <inertia ixx="7e-05" ixy="-5e-05" ixz="1e-05" iyy="0.00051" iyz="0" izz="0.00048"/>
      </inertial>
      <visual name="38_FL_Pretarsus_R_Visual">
        <origin xyz="-0.07406 0.01029 0.00618" rpy="-1.5708 -0.01487 0.01487"/>
        <geometry>
          <mesh filename="../meshes/obj/Textured_mesh_1.012.obj" scale="1.0 1.0 1.0"/>
        </geometry>
        <material name="Textured_mesh_1"/>
      </visual>
      <collision name="38_FL_Pretarsus_R_Collision">
        <origin xyz="-0.08783 0.01742 0.01144" rpy="-1.5708 -0.01487 0.01487"/>
        <geometry>
          <mesh filename="../meshes/obj/Textured_mesh_1.072.obj" scale="1.0 1.0 1.0"/>
        </geometry>
      </collision>
    </link>

    <joint name="02_Prothorax" type="revolute">
      <origin xyz="0 0 0" rpy="-1.5708 1.55593 -1.55593"/>
      <parent link="01_Carput"/>
      <child link="02_Prothorax"/>
      <axis xyz="0 0 1.0"/>
      <limit lower="-1.5708" upper="1.5708" effort="0" velocity="0"/>
    </joint>

    <joint name="03_Mesothorax" type="revolute">
      <origin xyz="-0.04181 0.35326 0.00516" rpy="0 0 0"/>
      <parent link="02_Prothorax"/>
      <child link="03_Mesothorax"/>
      <axis xyz="0 0 1.0"/>
      <limit lower="-1.5708" upper="1.5708" effort="0" velocity="0"/>
    </joint>

    <joint name="04_Metathorax" type="revolute">
      <origin xyz="-0.0529 1.49806 0.0154" rpy="0 0 0"/>
      <parent link="03_Mesothorax"/>
      <child link="04_Metathorax"/>
      <axis xyz="0 0 1.0"/>
      <limit lower="-1.5708" upper="1.5708" effort="0" velocity="0"/>
    </joint>

    <joint name="05_Abdomen_3" type="revolute">
      <origin xyz="-0.04709 0.952 -0.01588" rpy="0 0 0"/>
      <parent link="04_Metathorax"/>
      <child link="05_Abdomen_3"/>
      <axis xyz="0 0 1.0"/>
      <limit lower="-1.5708" upper="1.5708" effort="0" velocity="0"/>
    </joint>

    <joint name="06_Abdomen_2" type="revolute">
      <origin xyz="0.04239 0.84128 0.00484" rpy="0 0 0"/>
      <parent link="05_Abdomen_3"/>
      <child link="06_Abdomen_2"/>
      <axis xyz="0 0 1.0"/>
      <limit lower="-1.5708" upper="1.5708" effort="0" velocity="0"/>
    </joint>

    <joint name="07_Abdomen_1" type="revolute">
      <origin xyz="0.00886 0.92056 0.01897" rpy="0 0 0"/>
      <parent link="06_Abdomen_2"/>
      <child link="07_Abdomen_1"/>
      <axis xyz="0 0 1.0"/>
      <limit lower="-1.5708" upper="1.5708" effort="0" velocity="0"/>
    </joint>

    <joint name="08_Abdomen_0" type="revolute">
      <origin xyz="-0.01857 0.7985 -0.02414" rpy="0 0 0"/>
      <parent link="07_Abdomen_1"/>
      <child link="08_Abdomen_0"/>
      <axis xyz="0 0 1.0"/>
      <limit lower="-1.5708" upper="1.5708" effort="0" velocity="0"/>
    </joint>

    <joint name="09_HL_CT_L" type="revolute">
      <origin xyz="0.11581 0.86767 0.17126" rpy="1.5708 -1.55593 -1.55593"/>
      <parent link="04_Metathorax"/>
      <child link="09_HL_CT_L"/>
      <axis xyz="0 0 1.0"/>
      <limit lower="-1.5708" upper="1.5708" effort="0" velocity="0"/>
    </joint>

    <joint name="10_HL_Femur_L" type="revolute">
      <origin xyz="0.11235 0.01234 0.00904" rpy="1.5708 0.01487 0.01487"/>
      <parent link="09_HL_CT_L"/>
      <child link="10_HL_Femur_L"/>
      <axis xyz="0 0 1.0"/>
      <limit lower="-1.5708" upper="1.5708" effort="0" velocity="0"/>
    </joint>

    <joint name="11_HL_Tibia_L" type="revolute">
      <origin xyz="1.22244 0.01703 -0.00127" rpy="0 0 0"/>
      <parent link="10_HL_Femur_L"/>
      <child link="11_HL_Tibia_L"/>
      <axis xyz="0 0 1.0"/>
      <limit lower="-1.5708" upper="1.5708" effort="0" velocity="0"/>
    </joint>

    <joint name="12_HL_Tarsus_L" type="revolute">
      <origin xyz="0.0317 -1.4681 -0.00568" rpy="0 0 0"/>
      <parent link="11_HL_Tibia_L"/>
      <child link="12_HL_Tarsus_L"/>
      <axis xyz="0 0 1.0"/>
      <limit lower="-1.5708" upper="1.5708" effort="0" velocity="0"/>
    </joint>

    <joint name="13_HL_Pretarsus_L" type="revolute">
      <origin xyz="0.18012 -0.00329 -0.00104" rpy="0 0 0"/>
      <parent link="12_HL_Tarsus_L"/>
      <child link="13_HL_Pretarsus_L"/>
      <axis xyz="0 0 1.0"/>
      <limit lower="-1.5708" upper="1.5708" effort="0" velocity="0"/>
    </joint>

    <joint name="14_HL_CT_R" type="revolute">
      <origin xyz="0.05706 0.86858 -0.17293" rpy="1.5708 -1.55593 -1.55593"/>
      <parent link="04_Metathorax"/>
      <child link="14_HL_CT_R"/>
      <axis xyz="0 0 1.0"/>
      <limit lower="-1.5708" upper="1.5708" effort="0" velocity="0"/>
    </joint>

    <joint name="15_HL_Femur_R" type="revolute">
      <origin xyz="-0.13933 -0.00283 -0.00741" rpy="1.5708 0.01487 0.01487"/>
      <parent link="14_HL_CT_R"/>
      <child link="15_HL_Femur_R"/>
      <axis xyz="0 0 1.0"/>
      <limit lower="-1.5708" upper="1.5708" effort="0" velocity="0"/>
    </joint>

    <joint name="16_HL_Tibia_R" type="revolute">
      <origin xyz="-1.2448 -0.07124 0.00429" rpy="0 0 0"/>
      <parent link="15_HL_Femur_R"/>
      <child link="16_HL_Tibia_R"/>
      <axis xyz="0 0 1.0"/>
      <limit lower="-1.5708" upper="1.5708" effort="0" velocity="0"/>
    </joint>

    <joint name="17_HL_Tarsus_R" type="revolute">
      <origin xyz="0.00654 -1.27212 -0.00879" rpy="0 0 0"/>
      <parent link="16_HL_Tibia_R"/>
      <child link="17_HL_Tarsus_R"/>
      <axis xyz="0 0 1.0"/>
      <limit lower="-1.5708" upper="1.5708" effort="0" velocity="0"/>
    </joint>

    <joint name="18_HL_Pretarsus_R" type="revolute">
      <origin xyz="-0.26774 -0.01534 0.01139" rpy="0 0 0"/>
      <parent link="17_HL_Tarsus_R"/>
      <child link="18_HL_Pretarsus_R"/>
      <axis xyz="0 0 1.0"/>
      <limit lower="-1.5708" upper="1.5708" effort="0" velocity="0"/>
    </joint>

    <joint name="19_ML_CT_L" type="revolute">
      <origin xyz="0.05216 1.38959 0.19815" rpy="1.5708 -1.55593 -1.55593"/>
      <parent link="03_Mesothorax"/>
      <child link="19_ML_CT_L"/>
      <axis xyz="0 0 1.0"/>
      <limit lower="-1.5708" upper="1.5708" effort="0" velocity="0"/>
    </joint>

    <joint name="20_ML_Femur_L" type="revolute">
      <origin xyz="0.12326 0.00677 -0.0102" rpy="1.5708 0.01487 0.01487"/>
      <parent link="19_ML_CT_L"/>
      <child link="20_ML_Femur_L"/>
      <axis xyz="0 0 1.0"/>
      <limit lower="-1.5708" upper="1.5708" effort="0" velocity="0"/>
    </joint>

    <joint name="21_ML_Tibia_L" type="revolute">
      <origin xyz="1.02447 -0.02296 0.01027" rpy="0 0 0"/>
      <parent link="20_ML_Femur_L"/>
      <child link="21_ML_Tibia_L"/>
      <axis xyz="0 0 1.0"/>
      <limit lower="-1.5708" upper="1.5708" effort="0" velocity="0"/>
    </joint>

    <joint name="22_ML_Tarsus_L" type="revolute">
      <origin xyz="0.0474 -1.12595 -0.00892" rpy="0 0 0"/>
      <parent link="21_ML_Tibia_L"/>
      <child link="22_ML_Tarsus_L"/>
      <axis xyz="0 0 1.0"/>
      <limit lower="-1.5708" upper="1.5708" effort="0" velocity="0"/>
    </joint>

    <joint name="23_ML_Pretarsus_L" type="revolute">
      <origin xyz="0.16129 5e-05 -0.00209" rpy="0 0 0"/>
      <parent link="22_ML_Tarsus_L"/>
      <child link="23_ML_Pretarsus_L"/>
      <axis xyz="0 0 1.0"/>
      <limit lower="-1.5708" upper="1.5708" effort="0" velocity="0"/>
    </joint>

    <joint name="24_ML_CT_R" type="revolute">
      <origin xyz="0.08834 1.4053 -0.14673" rpy="1.5708 -1.55593 -1.55593"/>
      <parent link="03_Mesothorax"/>
      <child link="24_ML_CT_R"/>
      <axis xyz="0 0 1.0"/>
      <limit lower="-1.5708" upper="1.5708" effort="0" velocity="0"/>
    </joint>

    <joint name="25_ML_Femur_R" type="revolute">
      <origin xyz="-0.11998 0.00023 -0.00162" rpy="1.5708 0.01487 0.01487"/>
      <parent link="24_ML_CT_R"/>
      <child link="25_ML_Femur_R"/>
      <axis xyz="0 0 1.0"/>
      <limit lower="-1.5708" upper="1.5708" effort="0" velocity="0"/>
    </joint>

    <joint name="26_ML_Tibia_R" type="revolute">
      <origin xyz="-1.00324 -0.01434 0.01466" rpy="0 0 0"/>
      <parent link="25_ML_Femur_R"/>
      <child link="26_ML_Tibia_R"/>
      <axis xyz="0 0 1.0"/>
      <limit lower="-1.5708" upper="1.5708" effort="0" velocity="0"/>
    </joint>

    <joint name="27_ML_Tarsus_R" type="revolute">
      <origin xyz="-0.00804 -1.01475 0.00158" rpy="0 0 0"/>
      <parent link="26_ML_Tibia_R"/>
      <child link="27_ML_Tarsus_R"/>
      <axis xyz="0 0 1.0"/>
      <limit lower="-1.5708" upper="1.5708" effort="0" velocity="0"/>
    </joint>

    <joint name="28_ML_Pretarsus_R" type="revolute">
      <origin xyz="-0.20934 -0.00253 -0.00584" rpy="0 0 0"/>
      <parent link="27_ML_Tarsus_R"/>
      <child link="28_ML_Pretarsus_R"/>
      <axis xyz="0 0 1.0"/>
      <limit lower="-1.5708" upper="1.5708" effort="0" velocity="0"/>
    </joint>

    <joint name="29_FL_CT_L" type="revolute">
      <origin xyz="0.01474 0.13803 0.12265" rpy="1.5708 -1.55593 -1.55593"/>
      <parent link="02_Prothorax"/>
      <child link="29_FL_CT_L"/>
      <axis xyz="0 0 1.0"/>
      <limit lower="-1.5708" upper="1.5708" effort="0" velocity="0"/>
    </joint>

    <joint name="30_FL_Femur_L" type="revolute">
      <origin xyz="0.12442 0.01758 -0.01703" rpy="1.5708 0.01487 0.01487"/>
      <parent link="29_FL_CT_L"/>
      <child link="30_FL_Femur_L"/>
      <axis xyz="0 0 1.0"/>
      <limit lower="-1.5708" upper="1.5708" effort="0" velocity="0"/>
    </joint>

    <joint name="31_FL_Tibia_L" type="revolute">
      <origin xyz="1.39525 0.01628 -0.00914" rpy="0 0 0"/>
      <parent link="30_FL_Femur_L"/>
      <child link="31_FL_Tibia_L"/>
      <axis xyz="0 0 1.0"/>
      <limit lower="-1.5708" upper="1.5708" effort="0" velocity="0"/>
    </joint>

    <joint name="32_FL_Tarsus_L" type="revolute">
      <origin xyz="0.02497 -1.29823 0.00154" rpy="0 0 0"/>
      <parent link="31_FL_Tibia_L"/>
      <child link="32_FL_Tarsus_L"/>
      <axis xyz="0 0 1.0"/>
      <limit lower="-1.5708" upper="1.5708" effort="0" velocity="0"/>
    </joint>

    <joint name="33_FL_Pretarsus_L" type="revolute">
      <origin xyz="0.15796 -0.00992 -0.00606" rpy="0 0 0"/>
      <parent link="32_FL_Tarsus_L"/>
      <child link="33_FL_Pretarsus_L"/>
      <axis xyz="0 0 1.0"/>
      <limit lower="-1.5708" upper="1.5708" effort="0" velocity="0"/>
    </joint>

    <joint name="34_FL_CT_R" type="revolute">
      <origin xyz="0.02108 0.15758 -0.13854" rpy="1.5708 -1.55593 -1.55593"/>
      <parent link="02_Prothorax"/>
      <child link="34_FL_CT_R"/>
      <axis xyz="0 0 1.0"/>
      <limit lower="-1.5708" upper="1.5708" effort="0" velocity="0"/>
    </joint>

    <joint name="35_FL_Femur_R" type="revolute">
      <origin xyz="-0.10675 -0.00175 0.00476" rpy="1.5708 0.01487 0.01487"/>
      <parent link="34_FL_CT_R"/>
      <child link="35_FL_Femur_R"/>
      <axis xyz="0 0 1.0"/>
      <limit lower="-1.5708" upper="1.5708" effort="0" velocity="0"/>
    </joint>

    <joint name="36_FL_Tibia_R" type="revolute">
      <origin xyz="-1.39541 -0.03843 0.00396" rpy="0 0 0"/>
      <parent link="35_FL_Femur_R"/>
      <child link="36_FL_Tibia_R"/>
      <axis xyz="0 0 1.0"/>
      <limit lower="-1.5708" upper="1.5708" effort="0" velocity="0"/>
    </joint>

    <joint name="37_FL_Tarsus_R" type="revolute">
      <origin xyz="-0.00112 -1.41627 -0.00491" rpy="0 0 0"/>
      <parent link="36_FL_Tibia_R"/>
      <child link="37_FL_Tarsus_R"/>
      <axis xyz="0 0 1.0"/>
      <limit lower="-1.5708" upper="1.5708" effort="0" velocity="0"/>
    </joint>

    <joint name="38_FL_Pretarsus_R" type="revolute">
      <origin xyz="-0.16119 -0.01761 -0.00282" rpy="0 0 0"/>
      <parent link="37_FL_Tarsus_R"/>
      <child link="38_FL_Pretarsus_R"/>
      <axis xyz="0 0 1.0"/>
      <limit lower="-1.5708" upper="1.5708" effort="0" velocity="0"/>
    </joint>

    <material name="Textured_mesh_1">
      <color rgba="1 1 1 1.0"/>
    </material>

  </robot>
